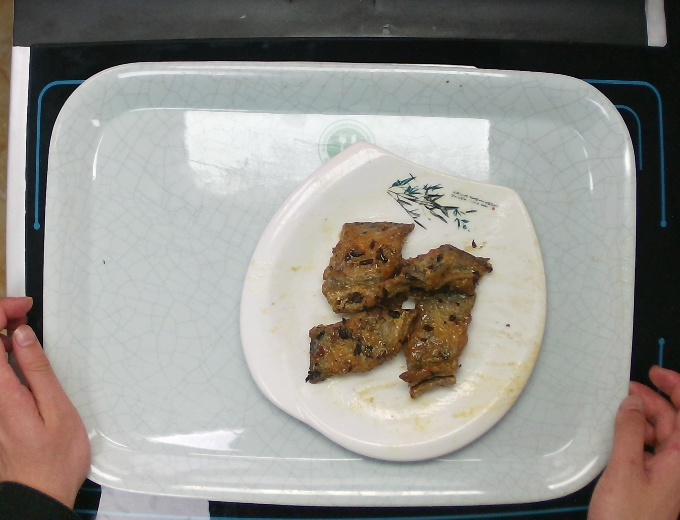JYsf-Mian_Pan: (229, 134, 556, 469)
